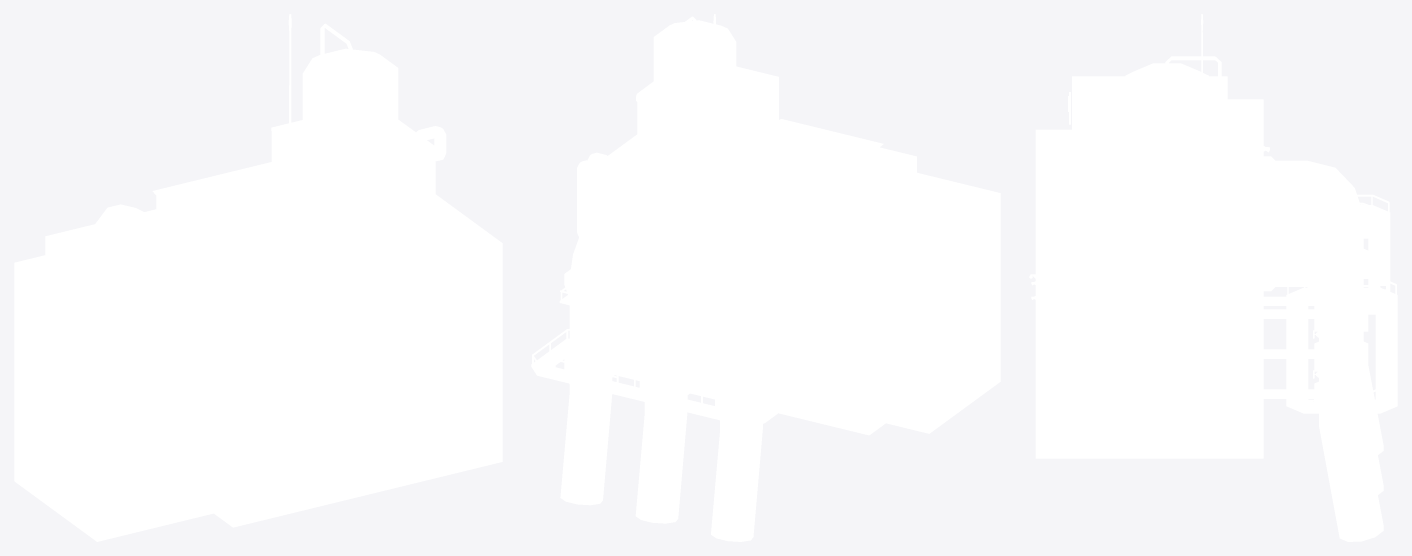
File: water-station-big.glb
The picture shows the model from 3 angles, left to right: view 1: azimuth 30°, elevation 25°; view 2: azimuth 150°, elevation 25°; view 3: azimuth 270°, elevation 25°; orthographic projection. The views are drawn at different scales.
Visible parts, largest first — view 1: water-station-big; view 2: water-station-big; view 3: water-station-big.
Part boxes in pixels (x1,y1,x2,y2): water-station-big: (14, 14, 502, 541); water-station-big: (531, 14, 1000, 541); water-station-big: (1029, 14, 1397, 541).
Bounding box in the file's own units: 28.96 × 35.76 × 24.4.
Materials: 1 (1 with a texture image).
